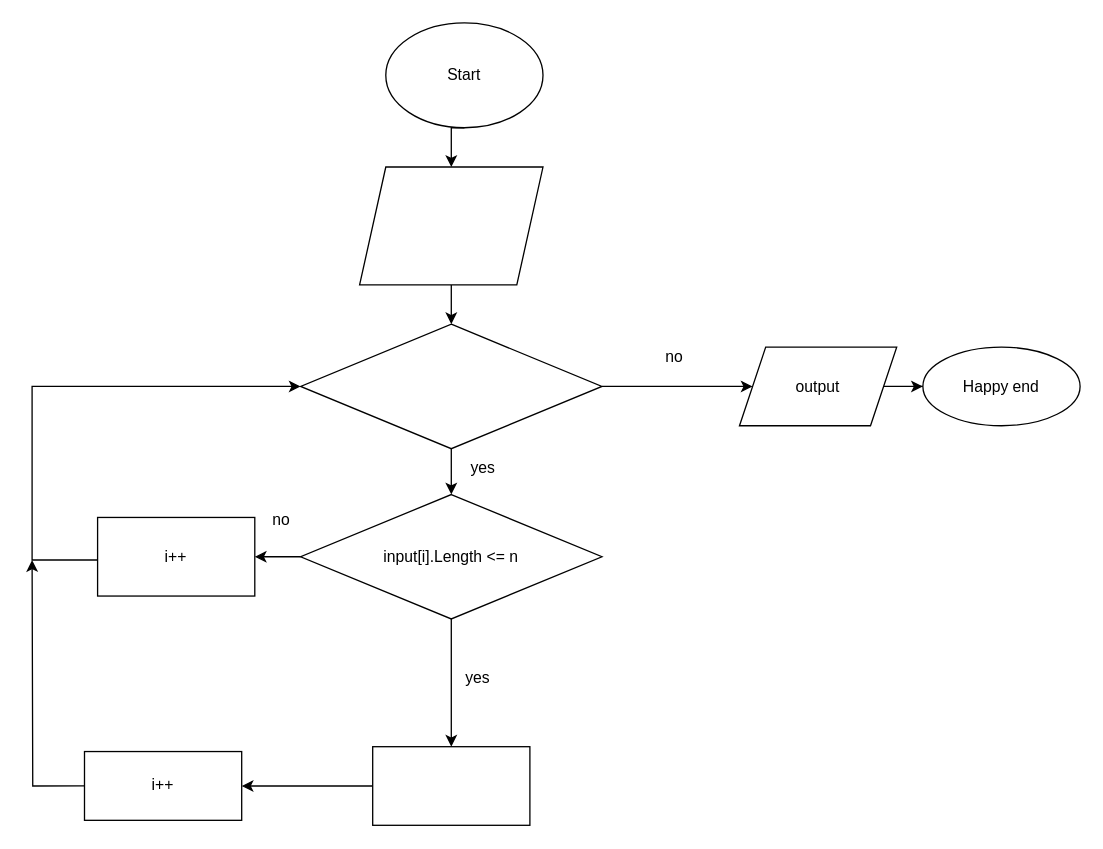
The diagram is 1103 pixels wide and 849 high, and some of its shapes have lost their labels. The centre of each missing label's shape, as x and y in pixels:
"i < input.Length" goes at (x=450, y=386).
"output[j] = input[i]" goes at (x=450, y=785).
"string[] input string[] output int i = 0 int j = 0 int n = 3" goes at (x=450, y=225).
